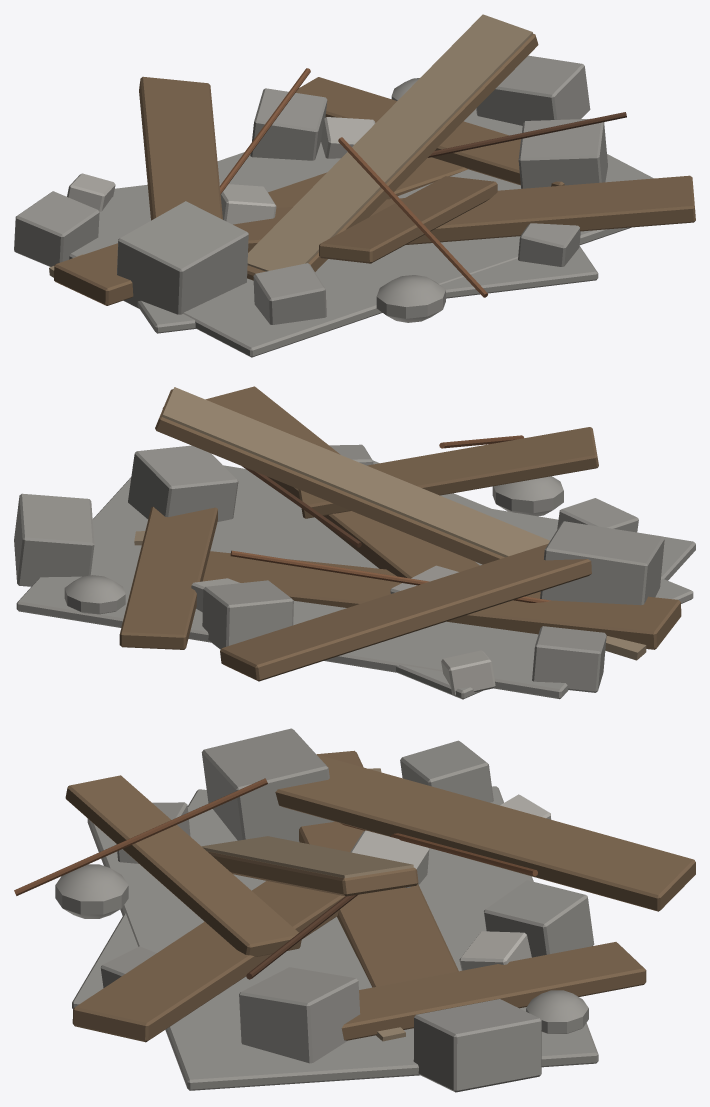
File: Debris.fbx
3 renders of one model, top to bottom at view 1: azimuth 30°, elevation 25°; view 2: azimuth 150°, elevation 25°; view 3: azimuth 270°, elevation 25°, orthographic. The views are drawn at different scales.
Visible parts, largest first — view 1: Debris; view 2: Debris; view 3: Debris.
Part boxes in pixels (<box>): Debris: <box>14,14,695,357</box>; Debris: <box>14,386,695,699</box>; Debris: <box>14,728,695,1092</box>.
Size of the model in its own units: 124 by 31.43 by 111.
